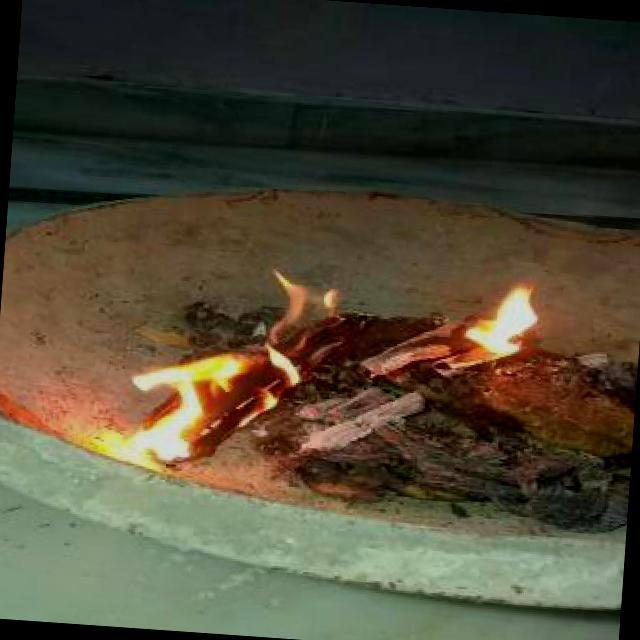Fire: (116, 255, 346, 478), (446, 258, 549, 368)
